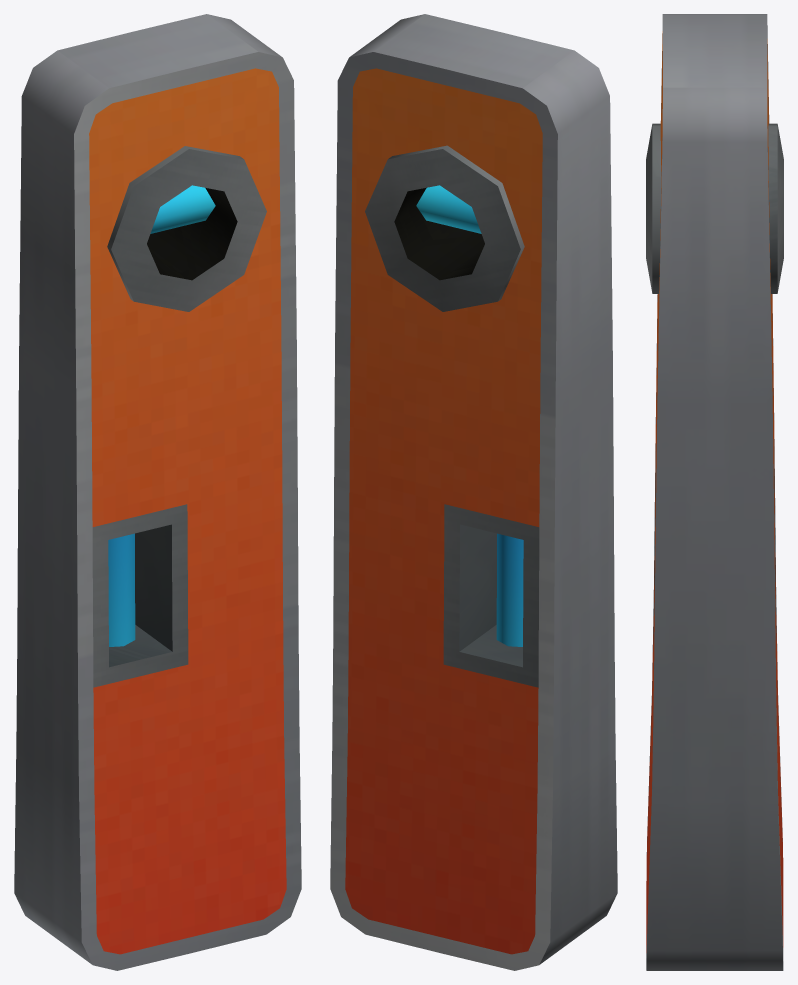
File: spirit_leveler.fbx
3 views of the same model, side by side, from view 1: azimuth 30°, elevation 25°; view 2: azimuth 150°, elevation 25°; view 3: azimuth 270°, elevation 25° (orthographic).
Visible parts, largest first — view 1: leveler; view 2: leveler; view 3: leveler.
Part boxes in pixels (left/top/right/bottom): leveler: left=14, top=14, right=301, bottom=970; leveler: left=330, top=14, right=617, bottom=970; leveler: left=646, top=14, right=783, bottom=970.
Size of the model in its own units: 10.68 by 40.59 by 5.74.
